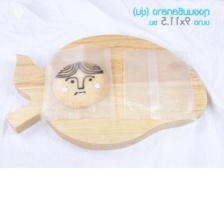snack: (35, 41, 120, 124), (119, 43, 202, 127)
